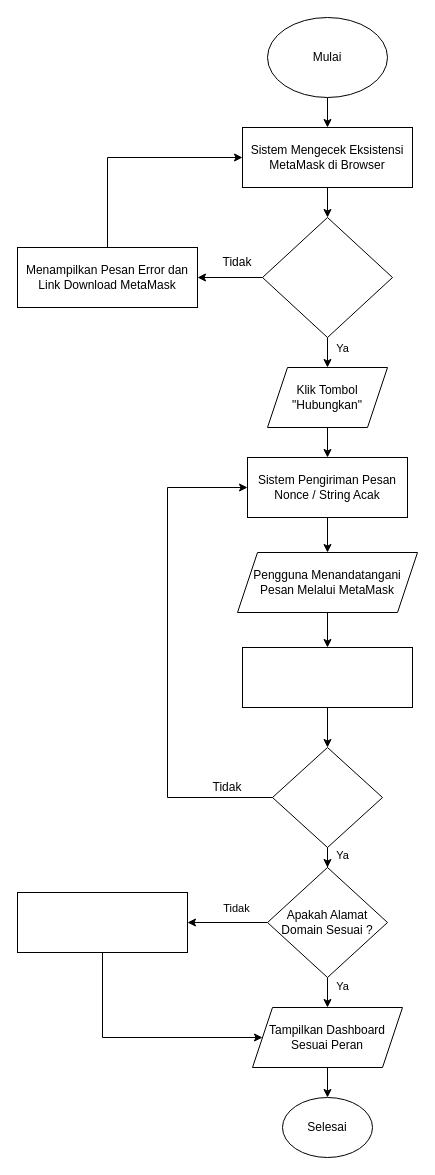
This 435x1175 diagram has some shape labels left out. Here are the shapes that lost their labels. From the top down, the box of each, then its label:
(262, 216, 392, 338): Apakah MetaMask Terdeteksi ?
(242, 646, 412, 708): Verifikasi Kecocokan tanda Tangan dengan Public Key
(272, 746, 382, 848): Apakah Tanda Tangan Valid ?
(16, 892, 188, 952): Arahkan ke Formulir Registrasi Profil Dokter / Pasien
